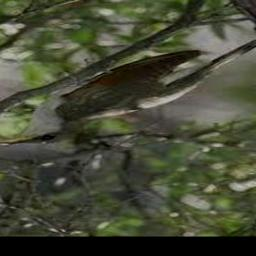Cuckoo: (0, 36, 256, 145)
